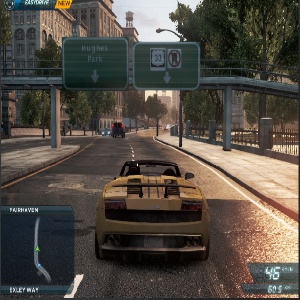building: (9, 9, 97, 128), (79, 7, 152, 128)
road sign: (62, 39, 199, 89)
tree: (184, 4, 300, 148), (178, 85, 220, 140), (27, 45, 50, 141), (68, 87, 91, 139), (123, 90, 148, 135), (144, 97, 164, 133)
vehicle: (110, 120, 127, 138), (97, 125, 114, 138)
